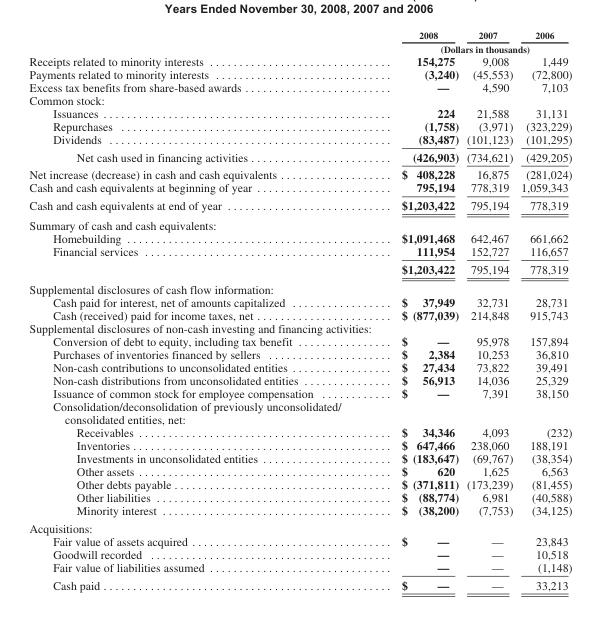table: (28, 28, 571, 591)
table column: (28, 28, 356, 591), (356, 28, 462, 591), (516, 28, 571, 591), (462, 28, 516, 591)
table column header: (28, 28, 571, 53)
table projected row header: (28, 399, 571, 425), (28, 278, 571, 295), (28, 215, 571, 231), (28, 518, 571, 534), (28, 93, 571, 106), (28, 321, 571, 334)
table row: (28, 399, 571, 425), (28, 196, 571, 215), (28, 259, 571, 278), (28, 147, 571, 165), (28, 278, 571, 295), (28, 180, 571, 196), (28, 215, 571, 231), (28, 518, 571, 534), (28, 575, 571, 591), (28, 132, 571, 147), (28, 165, 571, 180), (28, 244, 571, 259), (28, 503, 571, 518), (28, 560, 571, 575), (28, 53, 571, 67), (28, 28, 571, 41), (28, 67, 571, 80), (28, 80, 571, 93), (28, 93, 571, 106), (28, 106, 571, 119), (28, 119, 571, 132), (28, 231, 571, 244), (28, 295, 571, 308), (28, 308, 571, 321), (28, 321, 571, 334), (28, 334, 571, 347), (28, 347, 571, 360), (28, 360, 571, 373), (28, 373, 571, 386), (28, 386, 571, 399), (28, 425, 571, 438), (28, 438, 571, 451), (28, 451, 571, 464), (28, 464, 571, 477), (28, 477, 571, 490), (28, 490, 571, 503), (28, 534, 571, 547), (28, 547, 571, 560), (28, 41, 571, 53)
table spanning cell: (356, 41, 571, 53)
